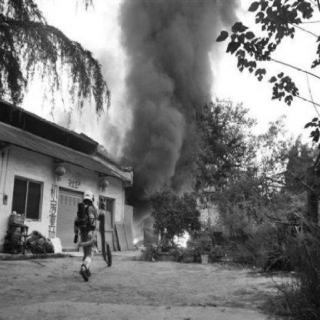Smoke: (114, 0, 214, 172)
